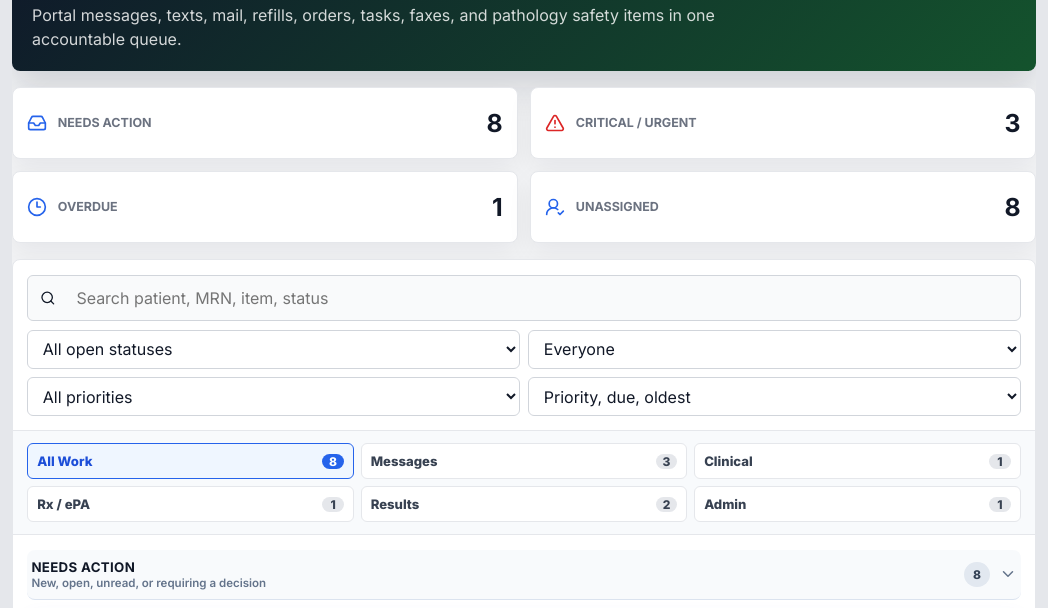
ClinicalInboxPage › uses the overdue summary as a real queue filter
What coordinates should you click on to do the following:
click the button "Overdue 1"
I would click on:
 (88, 206)
Its box is [12,171,518,243].
(page scrolled)
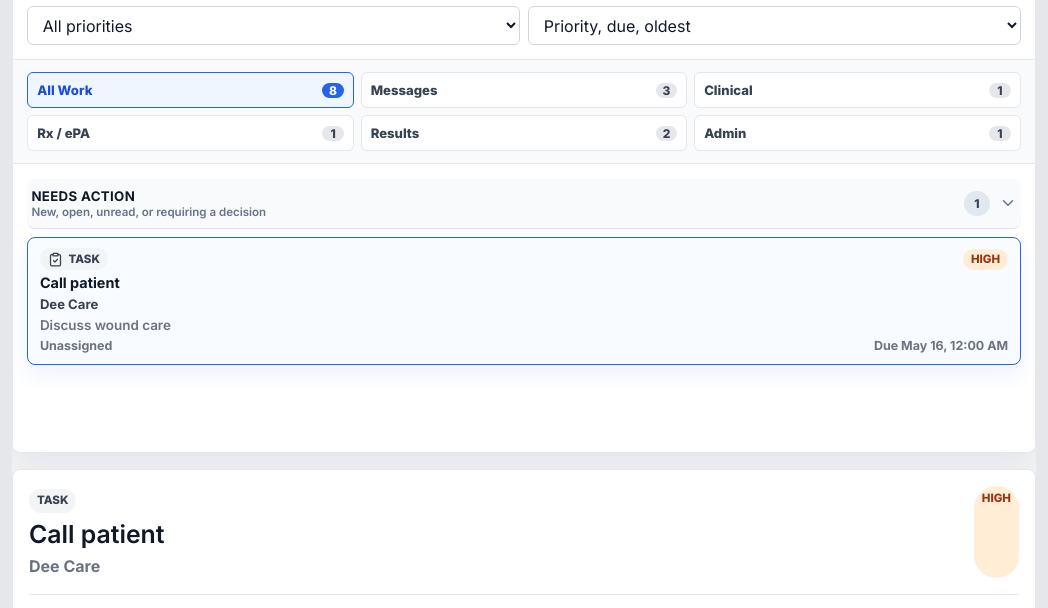
Check: the button "Call patient" is shown, box [27,237,1021,365]
